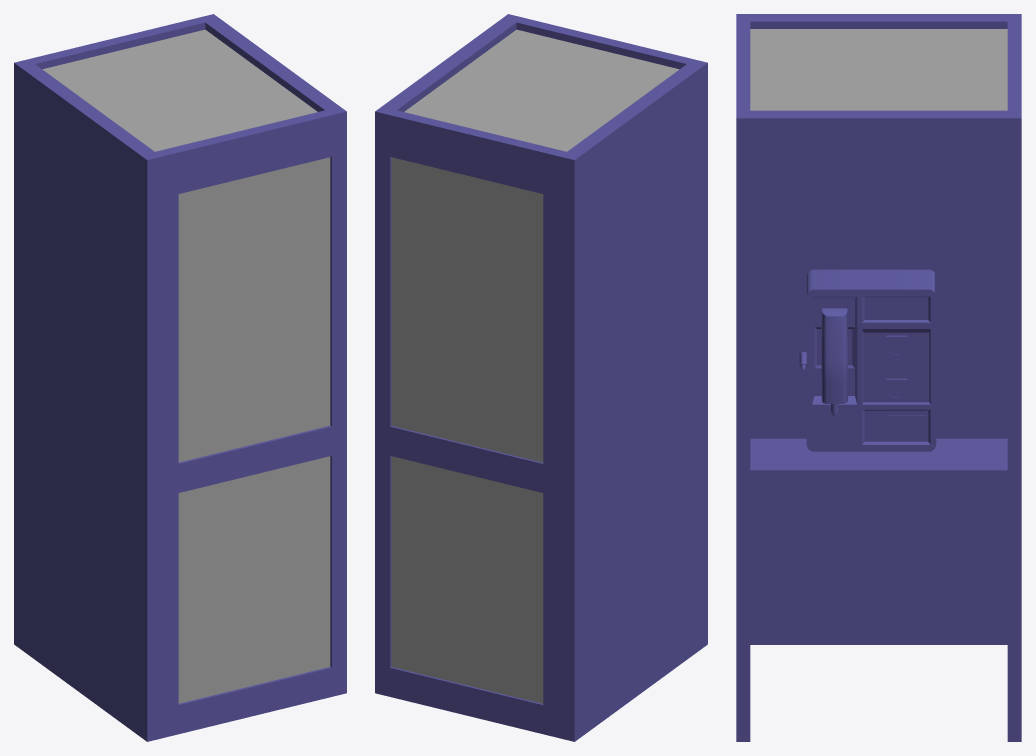
File: Pause_Set01_PayPhoneBooth_v02.fbx
The picture shows the model from 3 angles, left to right: view 1: azimuth 30°, elevation 25°; view 2: azimuth 150°, elevation 25°; view 3: azimuth 270°, elevation 25°; orthographic projection. The views are drawn at different scales.
Visible parts, largest first — view 1: Pause_PayPhone_Booth, Pause_PayPhoneGlass_01, Pause_PayPhoneGlass_05; view 2: Pause_PayPhone_Booth, Pause_PayPhoneGlass_04, Pause_PayPhoneGlass_05; view 3: Pause_PayPhone_Booth, Pause_PayPhoneGlass_05, Pause_PayPhone_Box, Pause_PayPhone_Phone, Pause_PayPhone, Pause_PayPhone_CoinReturn.
Part boxes in pixels (left/top/right/bottom): Pause_PayPhone_Booth: left=14, top=14, right=346, bottom=741; Pause_PayPhoneGlass_01: left=178, top=157, right=330, bottom=703; Pause_PayPhoneGlass_05: left=42, top=29, right=317, bottom=151; Pause_PayPhone_Booth: left=375, top=14, right=707, bottom=741; Pause_PayPhoneGlass_04: left=391, top=157, right=543, bottom=703; Pause_PayPhoneGlass_05: left=404, top=29, right=679, bottom=151; Pause_PayPhone_Booth: left=736, top=14, right=1021, bottom=741; Pause_PayPhoneGlass_05: left=750, top=29, right=1007, bottom=110; Pause_PayPhone_Box: left=806, top=269, right=936, bottom=451; Pause_PayPhone_Phone: left=821, top=308, right=847, bottom=403; Pause_PayPhone: left=885, top=335, right=907, bottom=399; Pause_PayPhone_CoinReturn: left=887, top=415, right=925, bottom=435.
Size of the model in its own units: 42.42 by 118 by 49.03.
